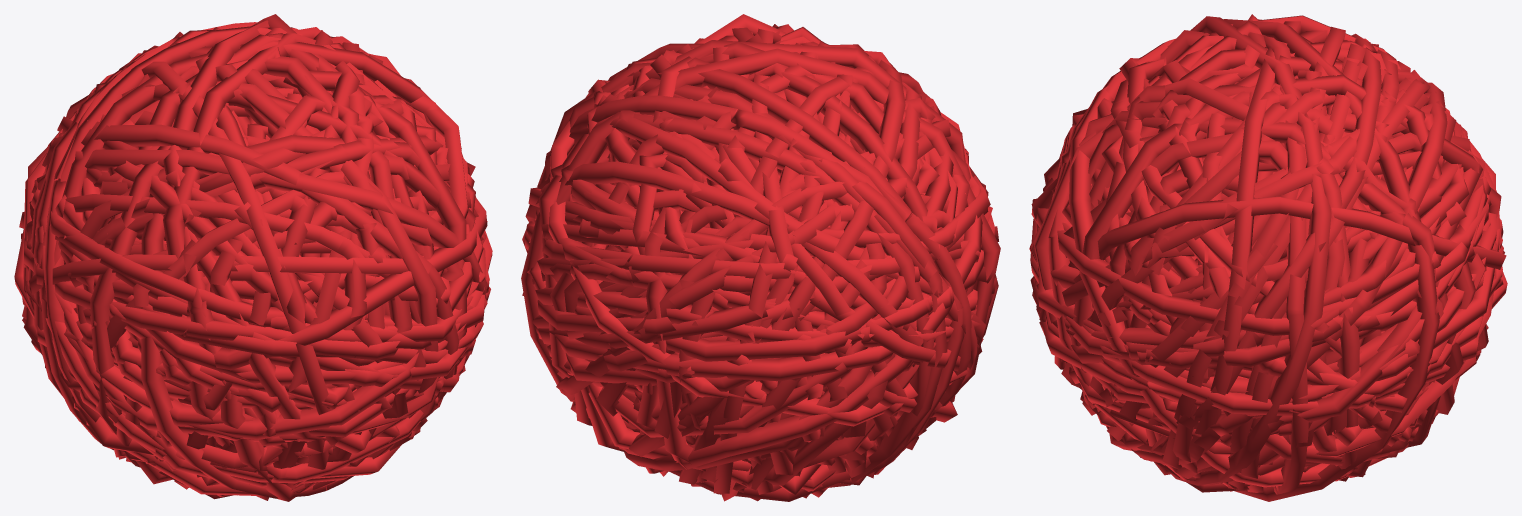
File: BallOYarn_Red.fbx
3 views of the same model, side by side, from view 1: azimuth 30°, elevation 25°; view 2: azimuth 150°, elevation 25°; view 3: azimuth 270°, elevation 25° (orthographic).
Visible parts, largest first — view 1: BallOYarn_Red; view 2: BallOYarn_Red; view 3: BallOYarn_Red.
Part boxes in pixels (box(x1,y1,x2,y2)): BallOYarn_Red: box(14, 14, 492, 501); BallOYarn_Red: box(521, 14, 1000, 501); BallOYarn_Red: box(1029, 14, 1507, 501).
Bounding box in the file's own units: 218 × 221 × 217.
